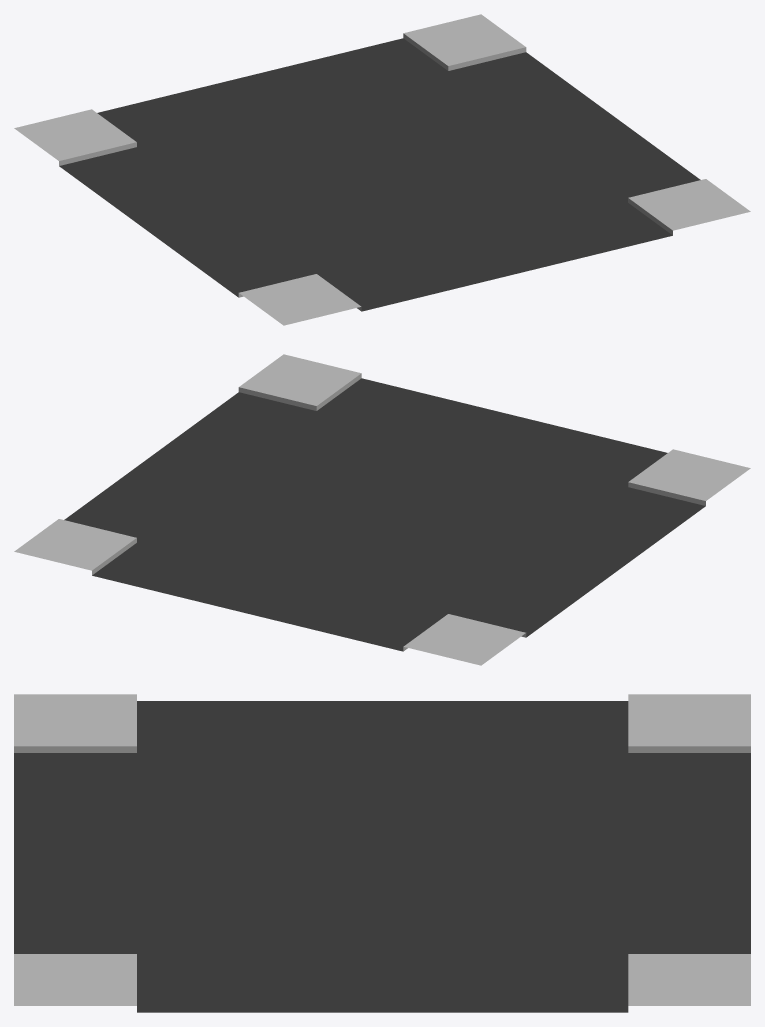
File: Strasse2.glb
3 views of the same model, one above another, from view 1: azimuth 30°, elevation 25°; view 2: azimuth 150°, elevation 25°; view 3: azimuth 270°, elevation 25° (orthographic). The views are drawn at different scales.
Parts seen in each view (by area): view 1: Strasse2; view 2: Strasse2; view 3: Strasse2.
Boxes of the visible parts, left/top/right/bottom form: Strasse2: left=14, top=14, right=750, bottom=325; Strasse2: left=14, top=354, right=750, bottom=665; Strasse2: left=14, top=694, right=750, bottom=1012.
Bounding box in the file's own units: 6 × 0.061 × 6.
Materials: 1 (1 with a texture image).
